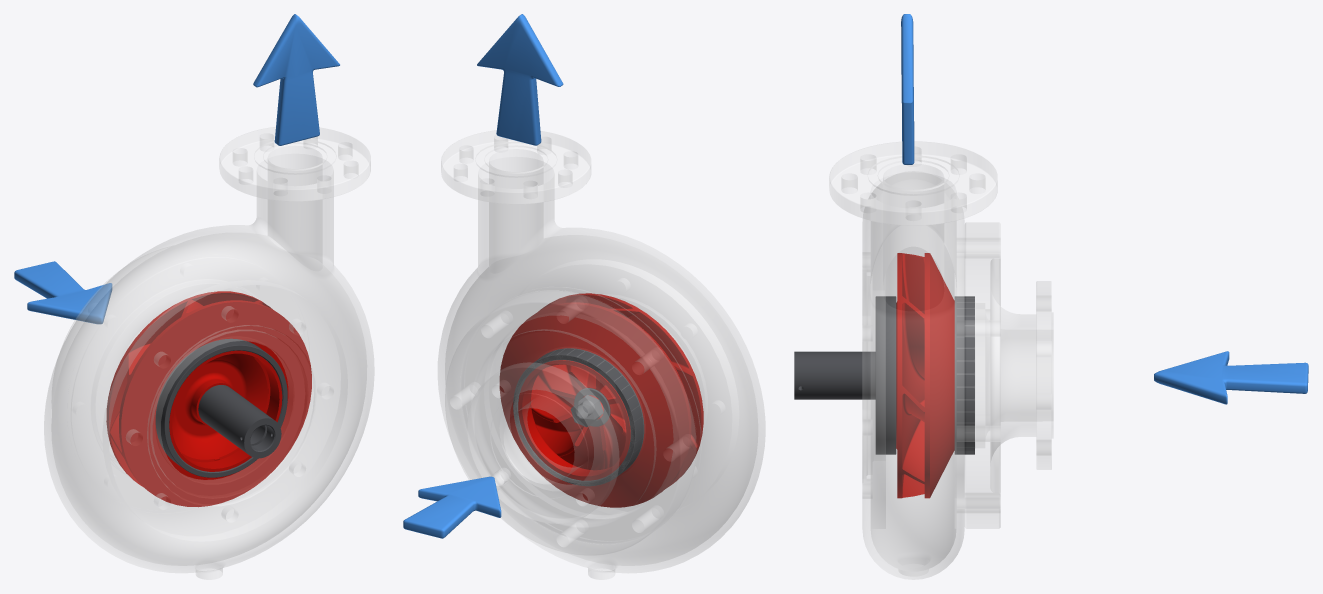
Rendered from turbine.glb.
3 views of the same model, side by side, from view 1: azimuth 30°, elevation 25°; view 2: azimuth 150°, elevation 25°; view 3: azimuth 270°, elevation 25° (orthographic). The views are drawn at different scales.
Parts seen in each view (by area): view 1: casing, rotor, Arrow_Material.001_0.001, frontcase, shaft, Arrow, back ring; view 2: casing, frontcase, rotor, Arrow_Material.001_0.001, ring, Arrow, nut, washer; view 3: casing, frontcase, rotor, Arrow, shaft, back ring, ring, Arrow_Material.001_0.001.
Boxes of the visible parts, x1,y1,x2,y2 form: casing: (44, 127, 374, 579); rotor: (106, 291, 311, 507); Arrow_Material.001_0.001: (253, 14, 339, 145); frontcase: (52, 247, 257, 475); shaft: (198, 385, 281, 458); Arrow: (14, 261, 112, 324); back ring: (155, 338, 287, 477); casing: (438, 130, 765, 579); frontcase: (445, 291, 696, 555); rotor: (499, 293, 703, 507); Arrow_Material.001_0.001: (477, 14, 563, 145); ring: (513, 348, 644, 486); Arrow: (403, 476, 501, 538); nut: (570, 395, 603, 427); washer: (574, 388, 610, 426); casing: (829, 141, 997, 579); frontcase: (957, 222, 1053, 528); rotor: (896, 253, 954, 498); Arrow: (1154, 351, 1308, 404); shaft: (794, 351, 875, 399); back ring: (875, 296, 896, 454); ring: (954, 296, 974, 454); Arrow_Material.001_0.001: (901, 14, 914, 164).
Size of the model in its own units: 1.1 by 1.78 by 1.38.
